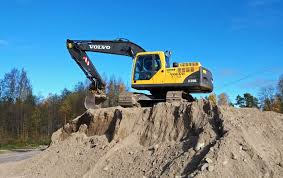excavator: (65, 35, 215, 114)
